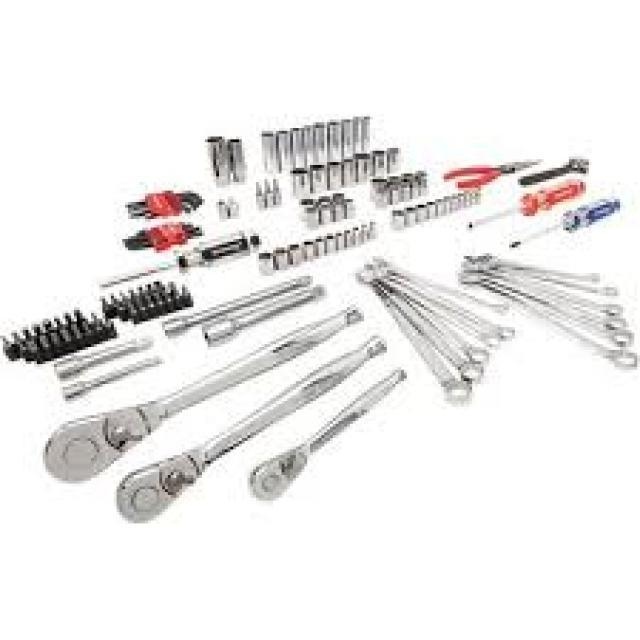pliers: (439, 146, 544, 194)
screwdriver: (92, 226, 269, 291), (502, 192, 627, 254), (462, 176, 592, 234)
wrench: (32, 304, 370, 488), (111, 332, 394, 528), (240, 366, 409, 506)
